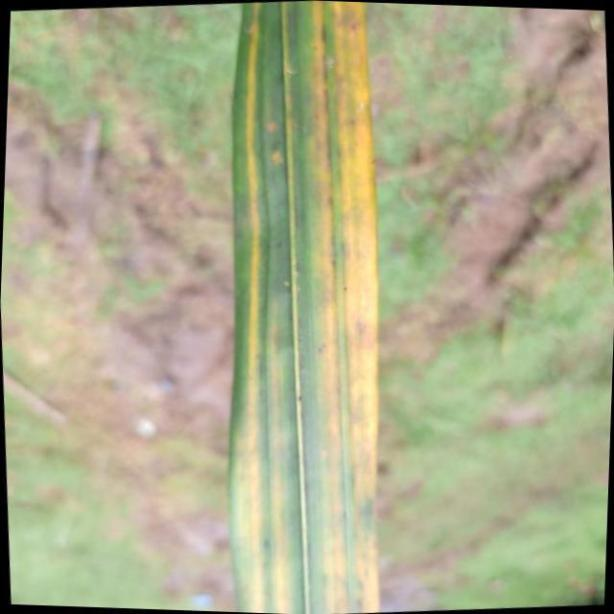Megnesium: (222, 0, 377, 614)
